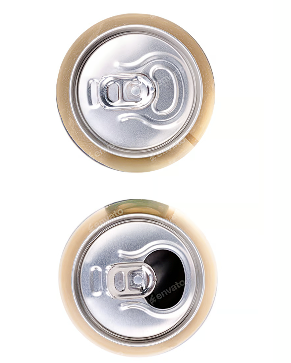Danificado: (77, 228, 203, 337)
Intacto: (68, 34, 202, 154)
